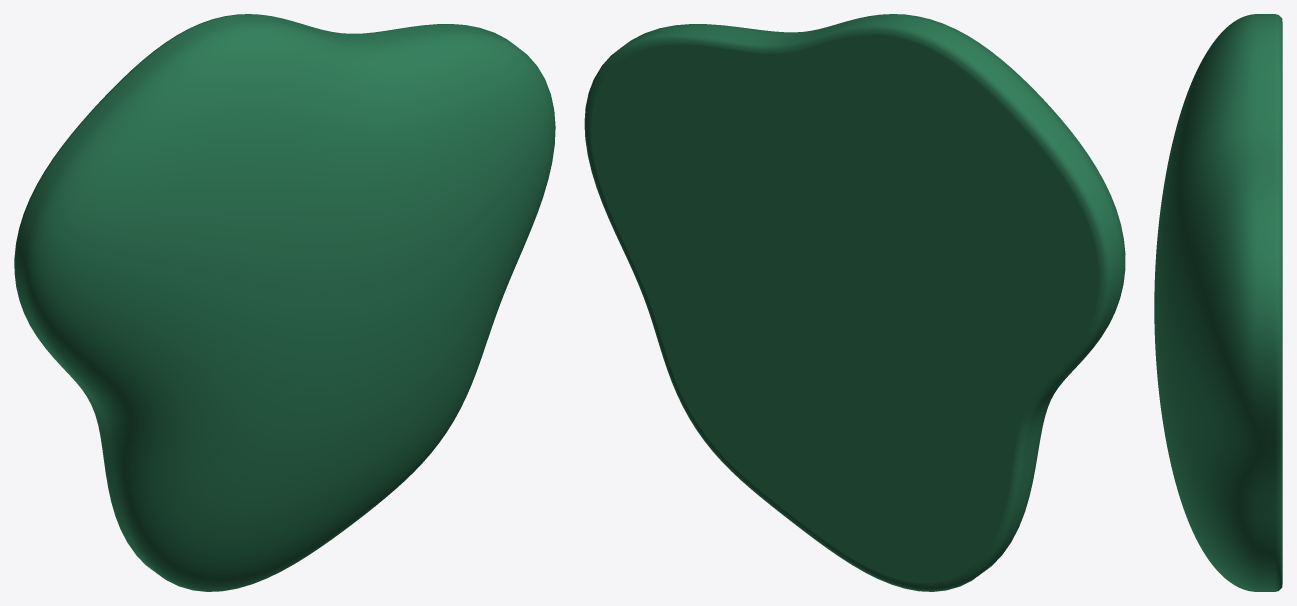
File: freeform.glb
The picture shows the model from 3 angles, left to right: view 1: azimuth 30°, elevation 25°; view 2: azimuth 150°, elevation 25°; view 3: azimuth 270°, elevation 25°; orthographic projection. The views are drawn at different scales.
Visible parts, largest first — view 1: Freeform Cabochon 18x17x4mm; view 2: Freeform Cabochon 18x17x4mm; view 3: Freeform Cabochon 18x17x4mm.
Boxes of the visible parts, x1=… form: Freeform Cabochon 18x17x4mm: x1=14, y1=14, x2=555, y2=591; Freeform Cabochon 18x17x4mm: x1=584, y1=14, x2=1125, y2=591; Freeform Cabochon 18x17x4mm: x1=1154, y1=14, x2=1282, y2=591.
Size of the model in its own units: 0.0184 by 0.0187 by 0.00398.
